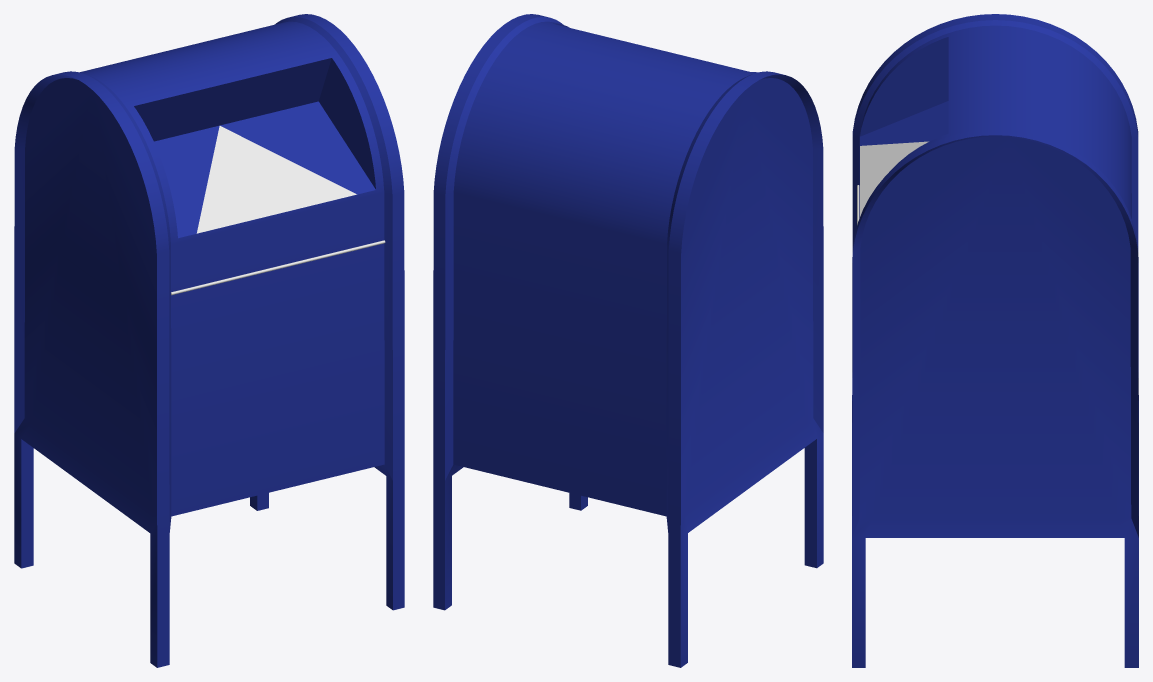
Rendered from post_box.fbx.
The picture shows the model from 3 angles, left to right: view 1: azimuth 30°, elevation 25°; view 2: azimuth 150°, elevation 25°; view 3: azimuth 270°, elevation 25°; orthographic projection.
Parts seen in each view (by area): view 1: Post; view 2: Post; view 3: Post.
Part boxes in pixels (box(x1,y1,x2,y2)): Post: box(14, 14, 404, 667); Post: box(433, 14, 823, 667); Post: box(852, 14, 1138, 667).
Bounding box in the file's own units: 54 × 111 × 54.
